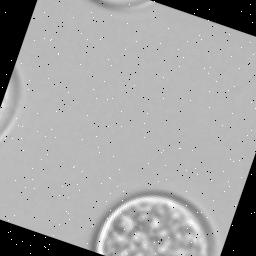picoshell: (91, 193, 215, 256), (0, 70, 20, 142), (89, 0, 154, 11)
